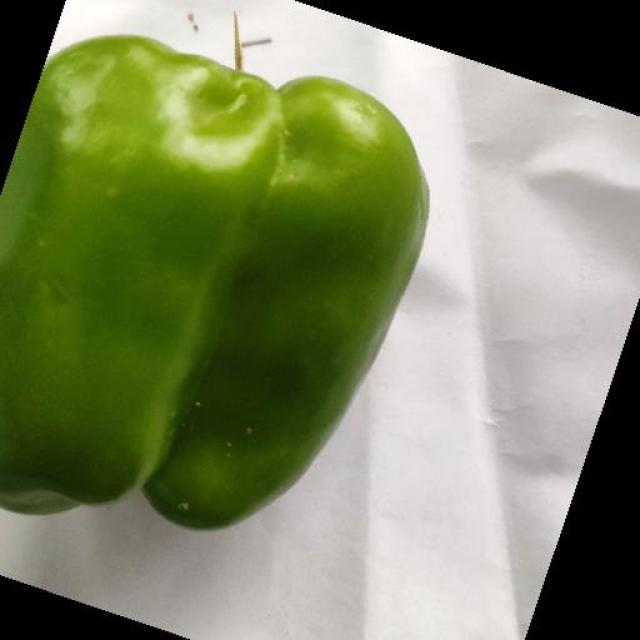Fresh_Capsicum: (53, 34, 360, 486)
